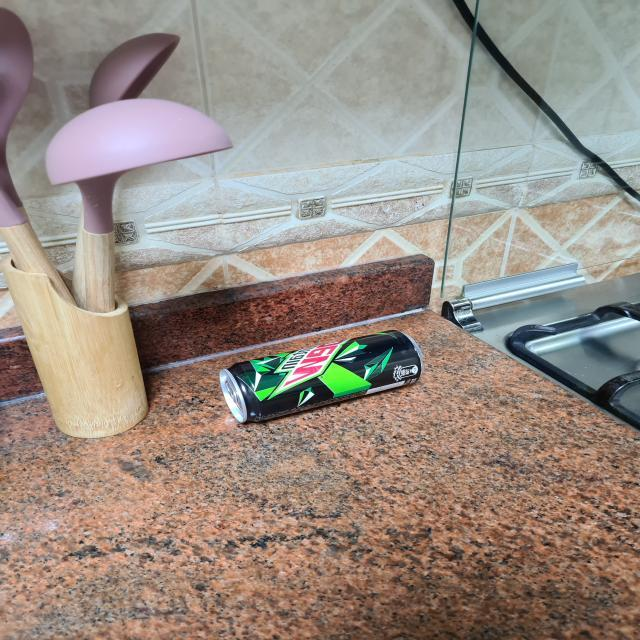can: (216, 328, 438, 420)
